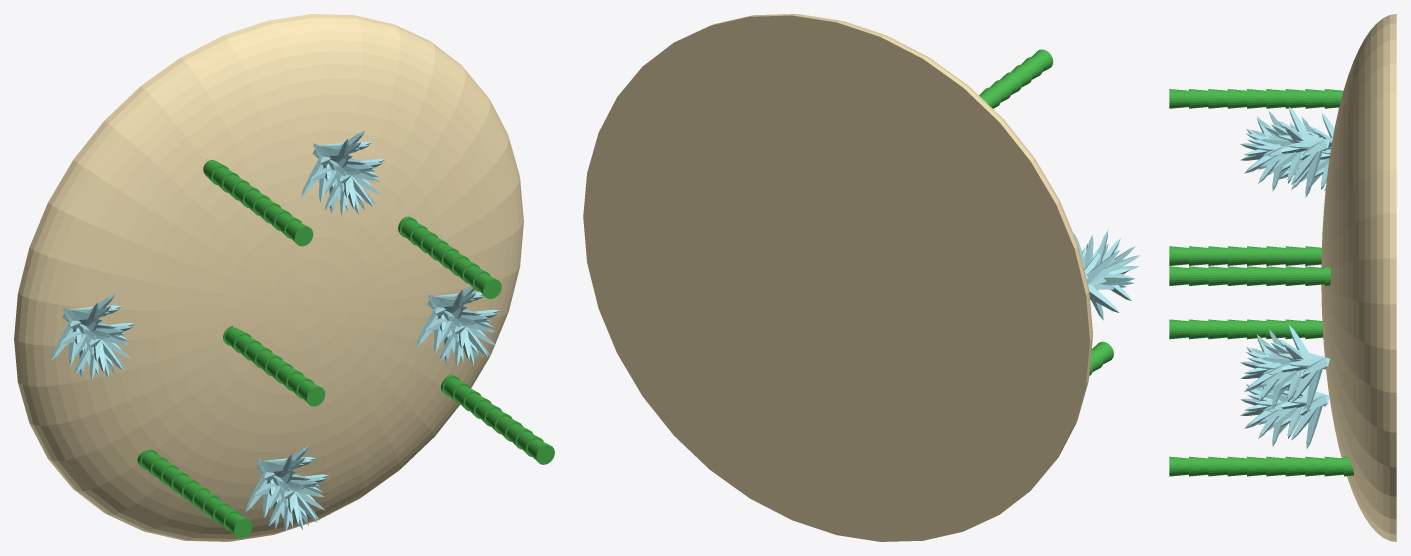
Rendered from tinker.obj.
3 views of the same model, side by side, from view 1: azimuth 30°, elevation 25°; view 2: azimuth 150°, elevation 25°; view 3: azimuth 270°, elevation 25° (orthographic). The views are drawn at different scales.
Visible parts, largest first — view 1: group_0_16311991, group_0_11593967, group_0_4634441; view 2: group_0_16311991, group_0_11593967, group_0_4634441; view 3: group_0_16311991, group_0_4634441, group_0_11593967.
Boxes of the visible parts, box(x1,y1,x2,y2) form: group_0_16311991: box(14, 14, 523, 541); group_0_11593967: box(51, 130, 499, 531); group_0_4634441: box(137, 159, 554, 538); group_0_16311991: box(583, 14, 1092, 541); group_0_11593967: box(1074, 229, 1140, 320); group_0_4634441: box(979, 49, 1113, 375); group_0_16311991: box(1321, 14, 1396, 541); group_0_4634441: box(1169, 89, 1353, 476); group_0_11593967: box(1240, 106, 1334, 448).
Bounding box in the file's own units: 181 × 175 × 75.5.
